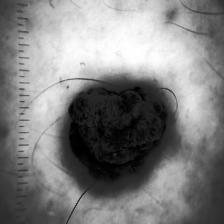Benign Marking or Mole: (66, 85, 169, 177)
